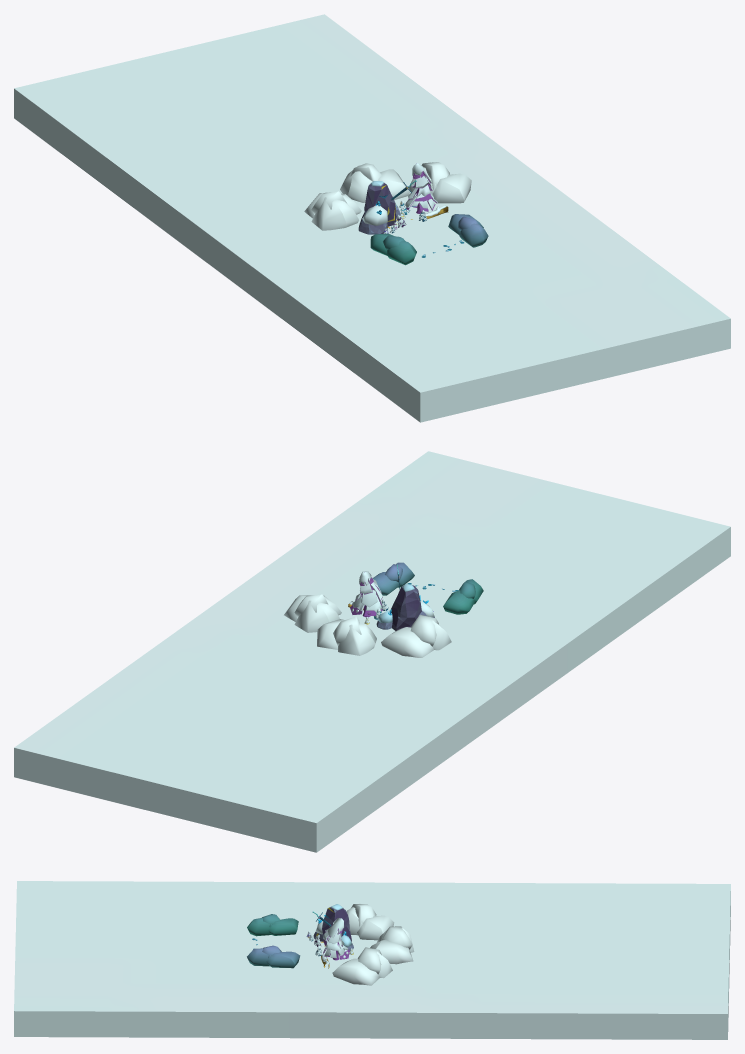
The model's file is new_environment_4.fbx.
The picture shows the model from 3 angles, top to bottom: view 1: azimuth 30°, elevation 25°; view 2: azimuth 150°, elevation 25°; view 3: azimuth 270°, elevation 25°; orthographic projection. The views are drawn at different scales.
Parts seen in each view (by area): view 1: polySurface550, Floating_Rock_1_Big_0_1.021, Plane.037, Floating_Rock_1_Big_0_1.018, Floating_Rock_1_Big_0_1.022, Floating_Rock_1_Big_0_1.019, Cylinder.002, Floating_Rock_1_Big_0_1.020; view 2: polySurface550, Floating_Rock_1_Big_0_1.021, Floating_Rock_1_Big_0_1.018, Plane.037, Floating_Rock_1_Big_0_1.022, Cylinder.002, Floating_Rock_1_Big_0_1.019, Floating_Rock_1_Big_0_1.020; view 3: polySurface550, Floating_Rock_1_Big_0_1.022, Floating_Rock_1_Big_0_1.021, Floating_Rock_1_Big_0_1.018, Floating_Rock_1_Big_0_1.020, Floating_Rock_1_Big_0_1.019, Plane.037, Cylinder.002.
Part boxes in pixels (left/top/right/bottom): polySurface550: left=14, top=14, right=730, bottom=422; Floating_Rock_1_Big_0_1.021: left=304, top=191, right=361, bottom=230; Plane.037: left=358, top=181, right=400, bottom=234; Floating_Rock_1_Big_0_1.018: left=340, top=163, right=409, bottom=202; Floating_Rock_1_Big_0_1.022: left=409, top=162, right=471, bottom=203; Floating_Rock_1_Big_0_1.019: left=370, top=233, right=416, bottom=265; Cylinder.002: left=405, top=163, right=437, bottom=213; Floating_Rock_1_Big_0_1.020: left=448, top=214, right=488, bottom=247; polySurface550: left=14, top=451, right=730, bottom=852; Floating_Rock_1_Big_0_1.021: left=381, top=614, right=451, bottom=657; Floating_Rock_1_Big_0_1.018: left=317, top=616, right=376, bottom=655; Plane.037: left=376, top=583, right=434, bottom=630; Floating_Rock_1_Big_0_1.022: left=284, top=594, right=341, bottom=632; Cylinder.002: left=350, top=571, right=382, bottom=617; Floating_Rock_1_Big_0_1.019: left=443, top=579, right=483, bottom=614; Floating_Rock_1_Big_0_1.020: left=372, top=562, right=414, bottom=595; polySurface550: left=14, top=881, right=730, bottom=1039; Floating_Rock_1_Big_0_1.022: left=332, top=947, right=392, bottom=985; Floating_Rock_1_Big_0_1.021: left=346, top=903, right=394, bottom=940; Floating_Rock_1_Big_0_1.018: left=370, top=926, right=414, bottom=964; Floating_Rock_1_Big_0_1.020: left=247, top=945, right=300, bottom=968; Floating_Rock_1_Big_0_1.019: left=247, top=914, right=298, bottom=936; Plane.037: left=313, top=904, right=353, bottom=950; Cylinder.002: left=323, top=918, right=349, bottom=960.
Bounding box in the file's own units: 128 × 29.83 × 292.
Materials: 2 (2 with a texture image).
